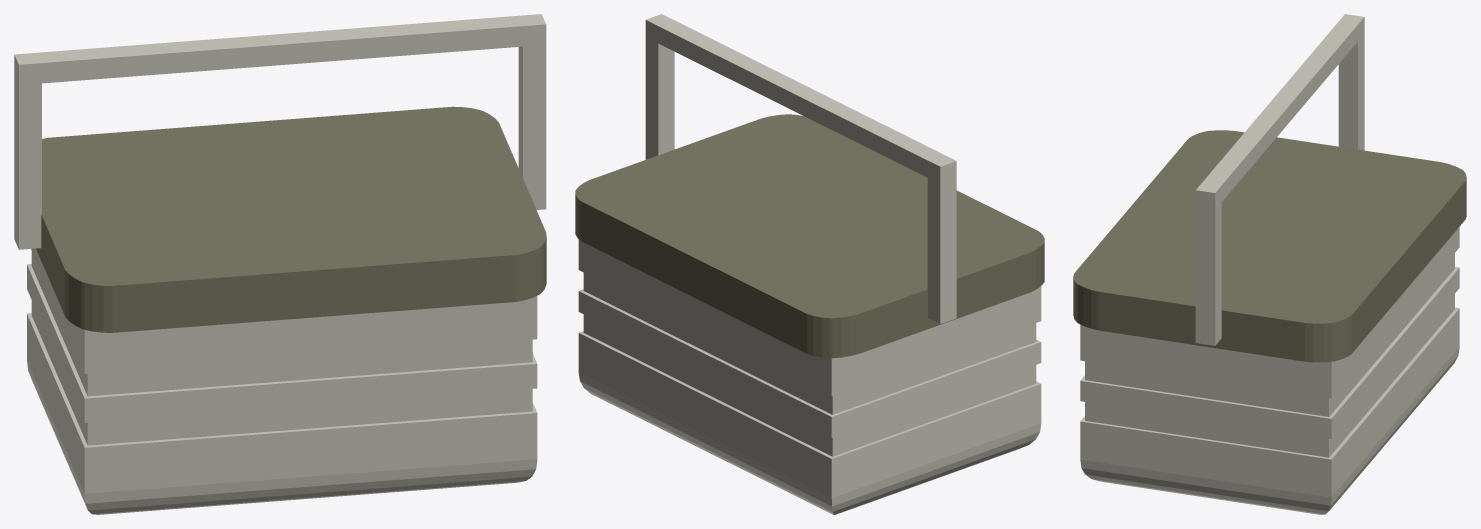
Rendered from Icebox1.glb.
3 views of the same model, side by side, from view 1: azimuth 30°, elevation 25°; view 2: azimuth 150°, elevation 25°; view 3: azimuth 270°, elevation 25° (orthographic). The views are drawn at different scales.
Parts seen in each view (by area): view 1: Box001, Box002; view 2: Box001, Box002; view 3: Box001, Box002.
Boxes of the visible parts, <box> form: Box001: <box>27,106,546,514</box>; Box002: <box>14,14,546,249</box>; Box001: <box>575,114,1044,514</box>; Box002: <box>645,14,956,323</box>; Box001: <box>1073,130,1466,514</box>; Box002: <box>1195,14,1364,345</box>.
Bounding box in the file's own units: 2294357 × 1824069 × 1974000.
